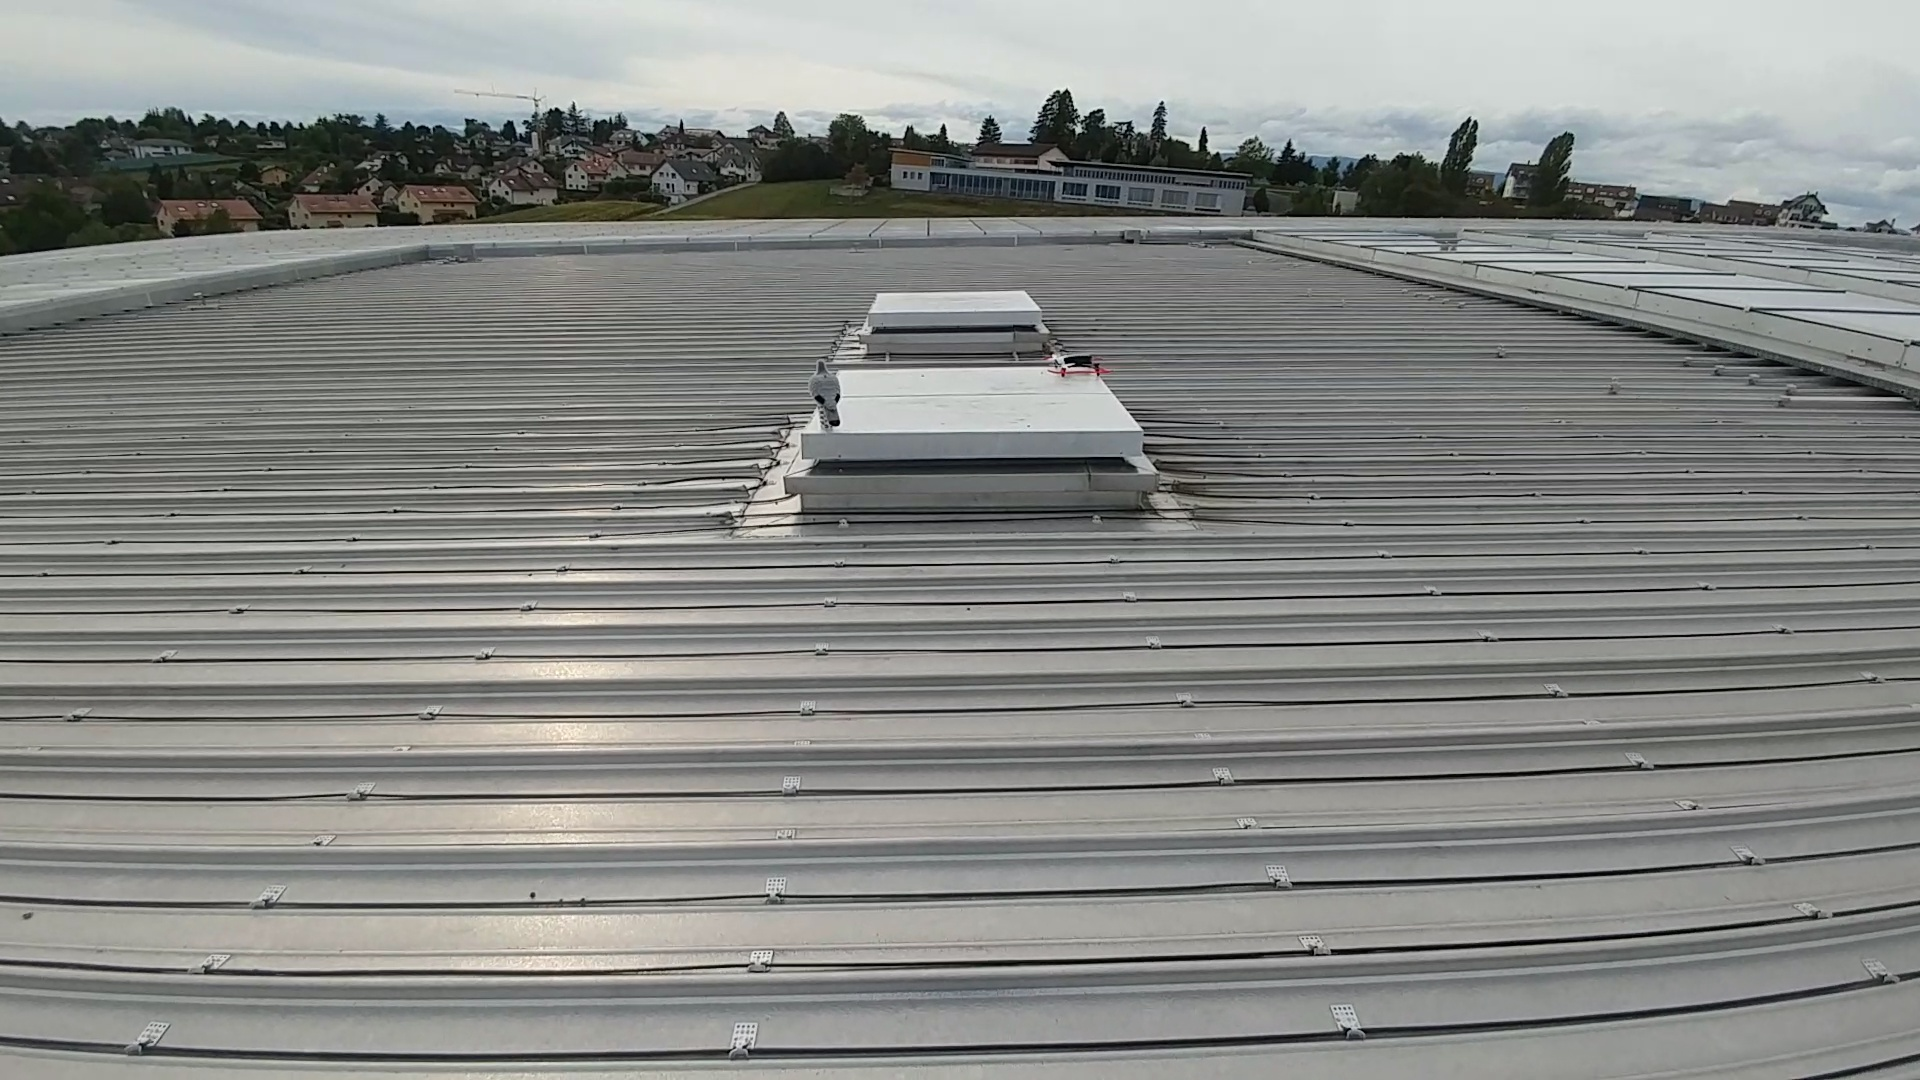Pigeon: (803, 356, 849, 430)
